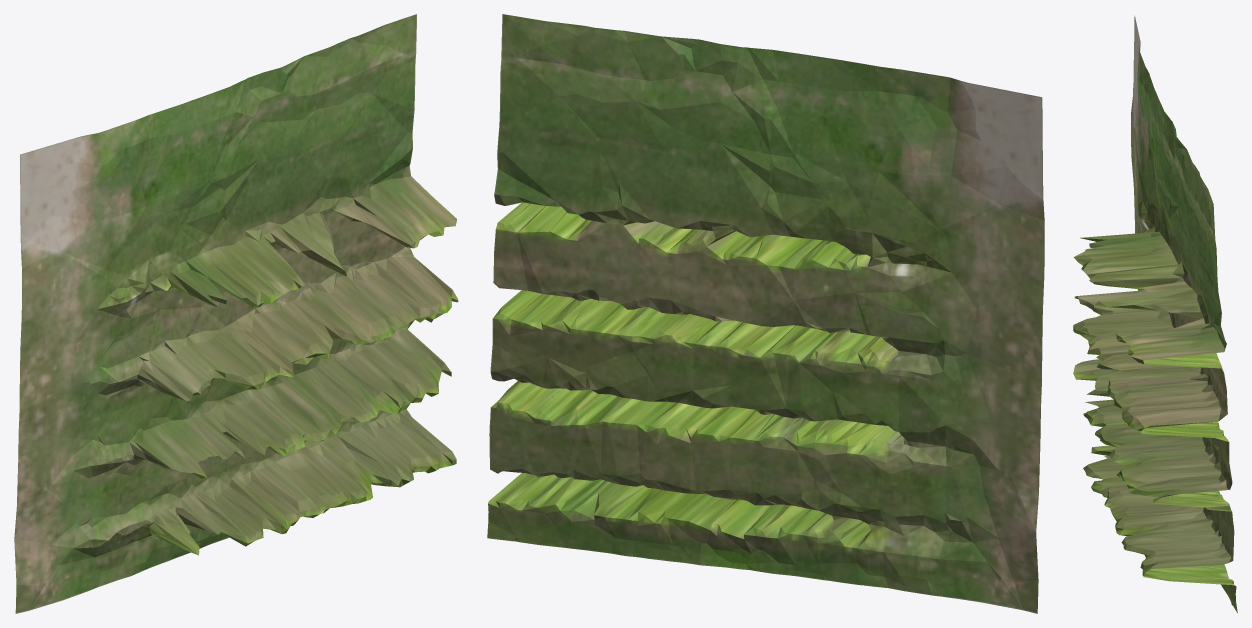
Rendered from map_260_20.obj.
3 views of the same model, side by side, from view 1: azimuth 30°, elevation 25°; view 2: azimuth 150°, elevation 25°; view 3: azimuth 270°, elevation 25° (orthographic). The views are drawn at different scales.
Visible parts, largest first — view 1: grp1; view 2: grp1; view 3: grp1.
Boxes of the visible parts, box(x1,y1,x2,y2) form: grp1: box(14, 14, 458, 613); grp1: box(487, 14, 1044, 613); grp1: box(1073, 15, 1237, 612).
Size of the model in its own units: 10 by 10 by 3.64.
1 material, 1 textured.
